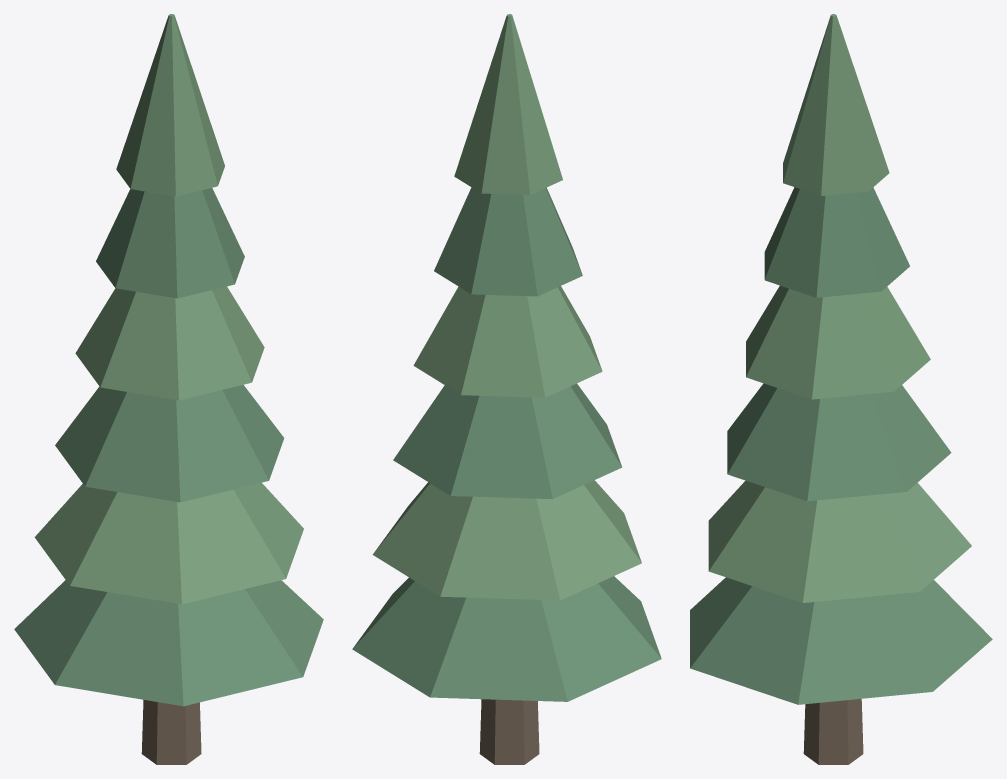
File: pine_v02.glb
3 renders of one model, left to right at view 1: azimuth 30°, elevation 25°; view 2: azimuth 150°, elevation 25°; view 3: azimuth 270°, elevation 25°, orthographic.
Parts seen in each view (by area): view 1: lod0; view 2: lod0; view 3: lod0.
Boxes of the visible parts, left/top/right/bottom form: lod0: left=14, top=14, right=323, bottom=764; lod0: left=352, top=14, right=661, bottom=764; lod0: left=690, top=14, right=992, bottom=764.
Size of what is drawn, in the model's own units: 2.08 by 5.46 by 2.03.
